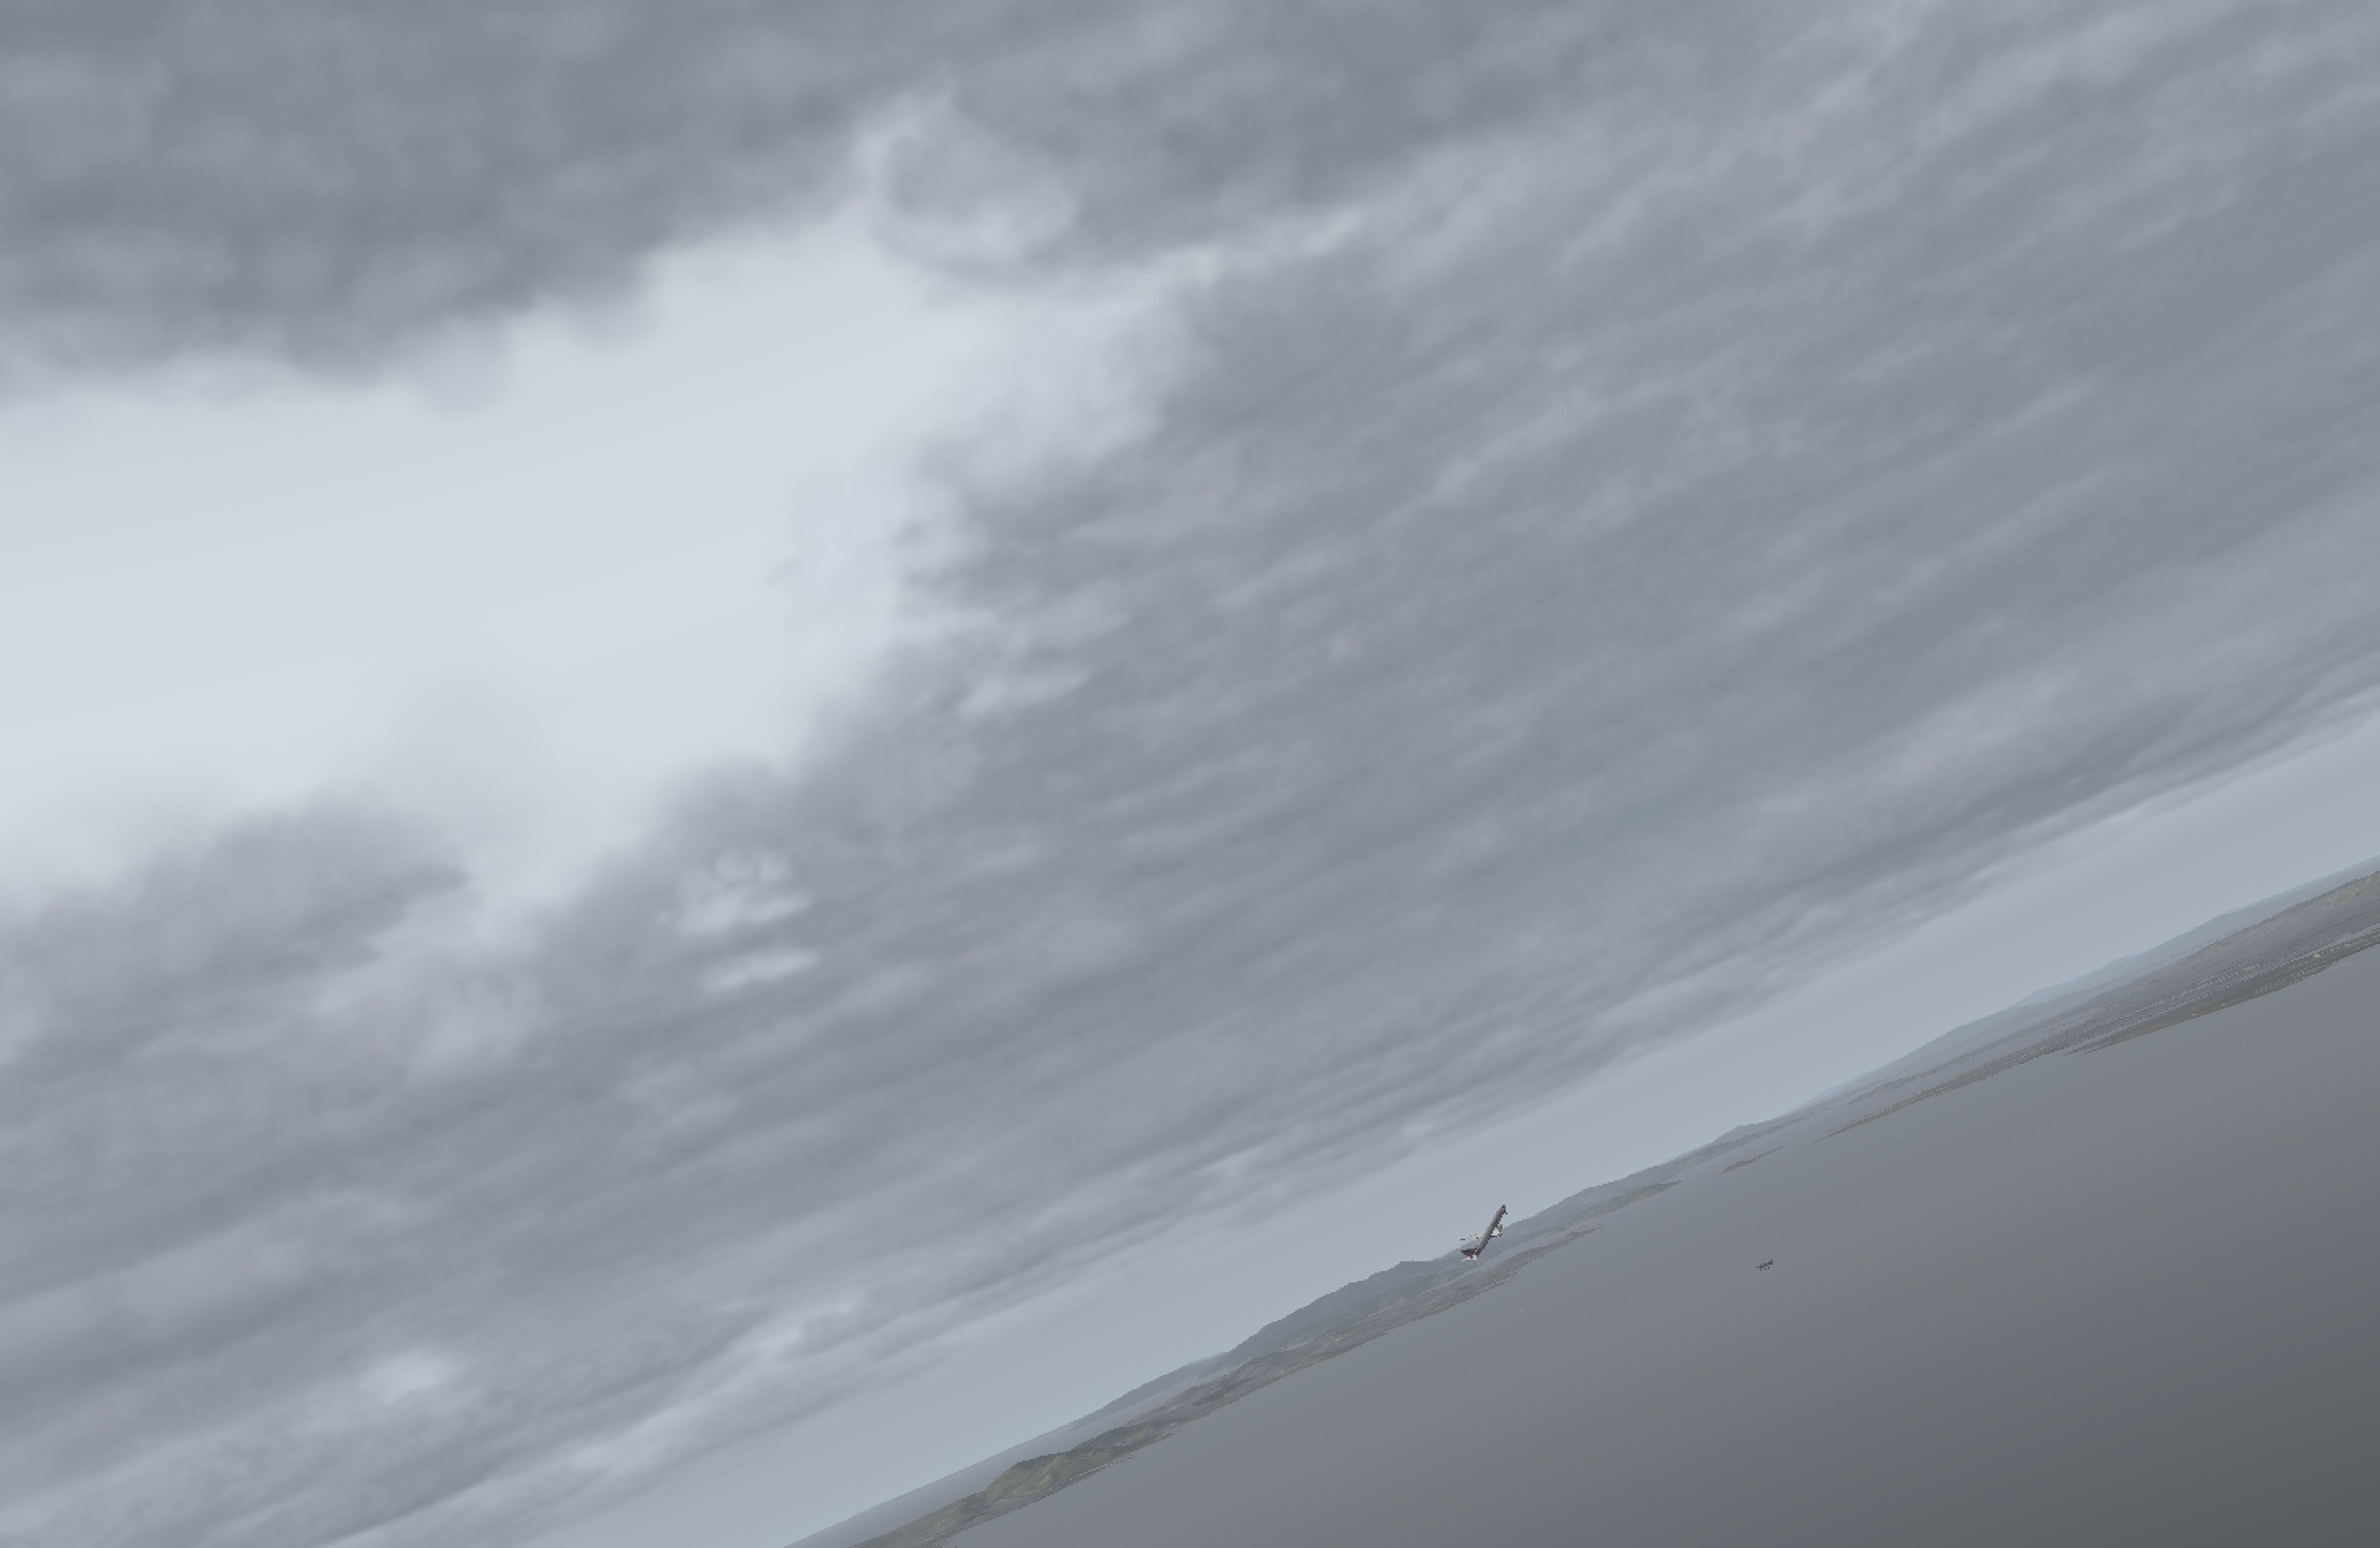aircraft: (1455, 1218, 1527, 1244)
